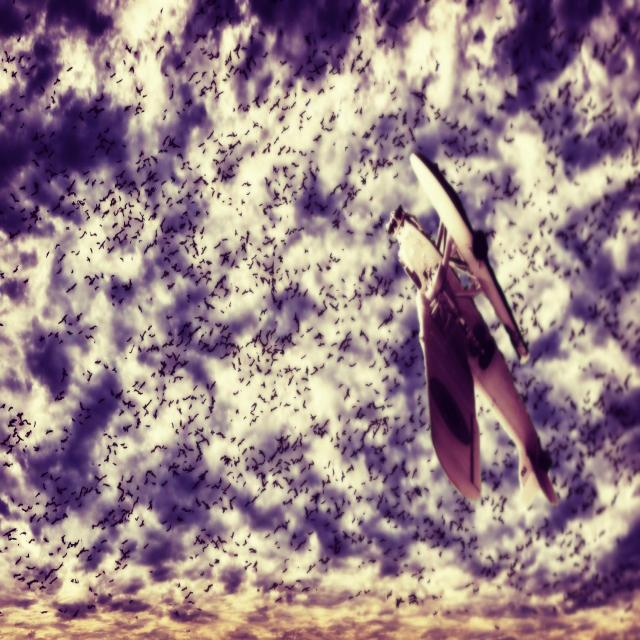airplane: (385, 150, 559, 511)
